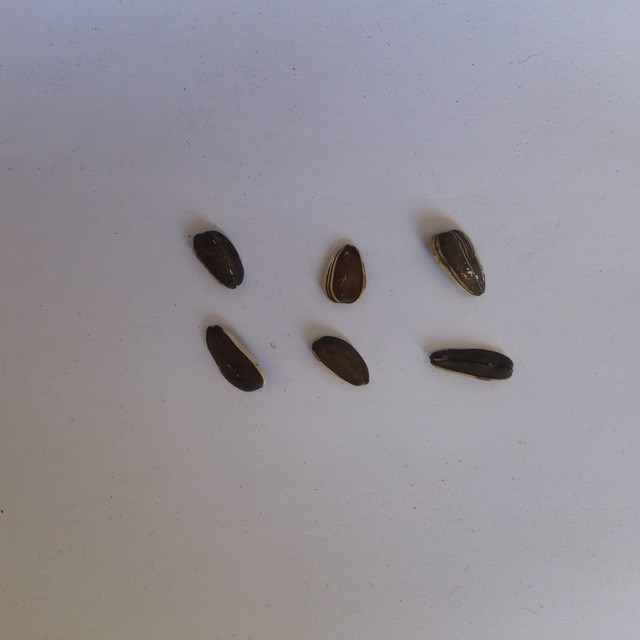girasol: (200, 320, 269, 397), (185, 222, 253, 297), (425, 224, 488, 300), (419, 343, 520, 389), (307, 328, 377, 392), (322, 239, 368, 310)
